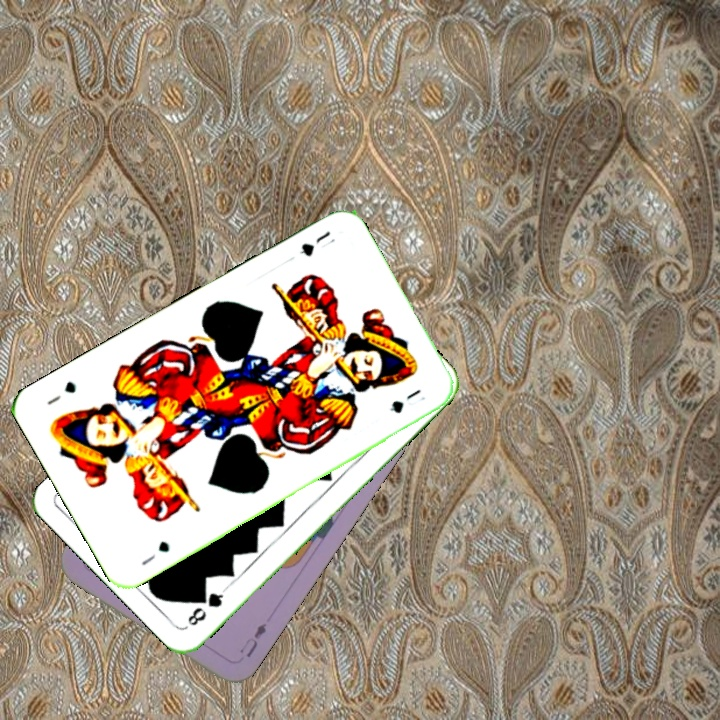EU: (236, 618, 270, 660)
G8: (184, 584, 229, 629)
GU: (296, 226, 338, 260), (137, 537, 173, 569)
